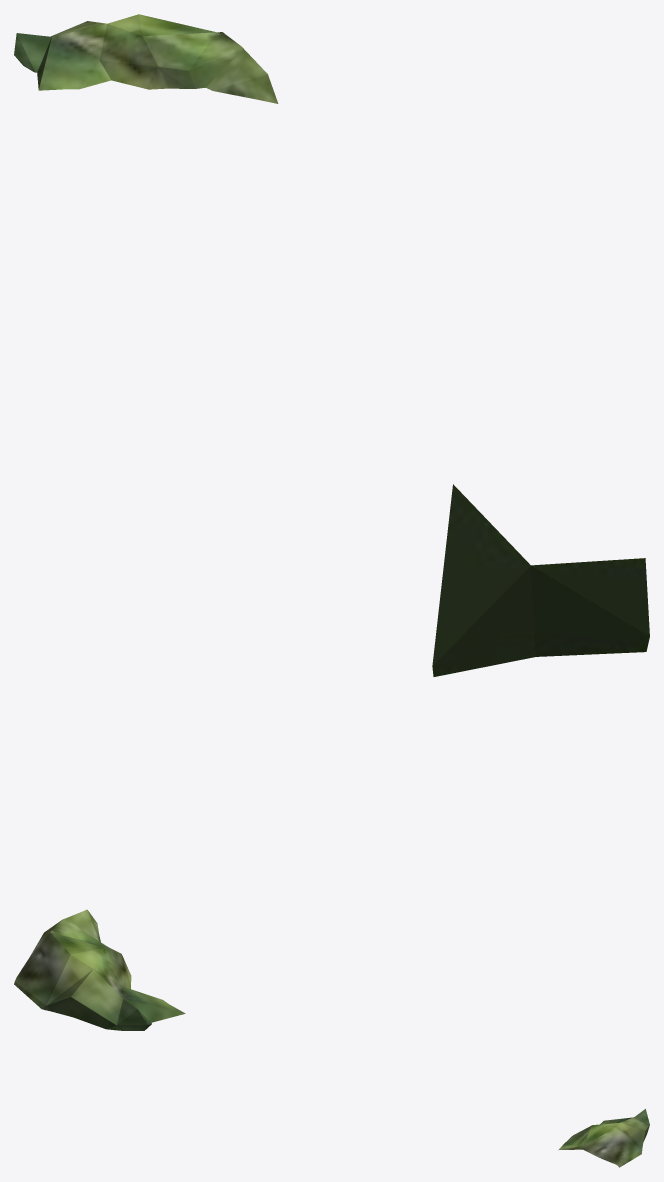
The picture shows the model from 3 angles, top to bottom: view 1: azimuth 30°, elevation 25°; view 2: azimuth 150°, elevation 25°; view 3: azimuth 270°, elevation 25°; orthographic projection. The views are drawn at different scales.
Bounding box in the file's own units: 4.01 × 4.32 × 22.91.
1 material, 1 textured.
